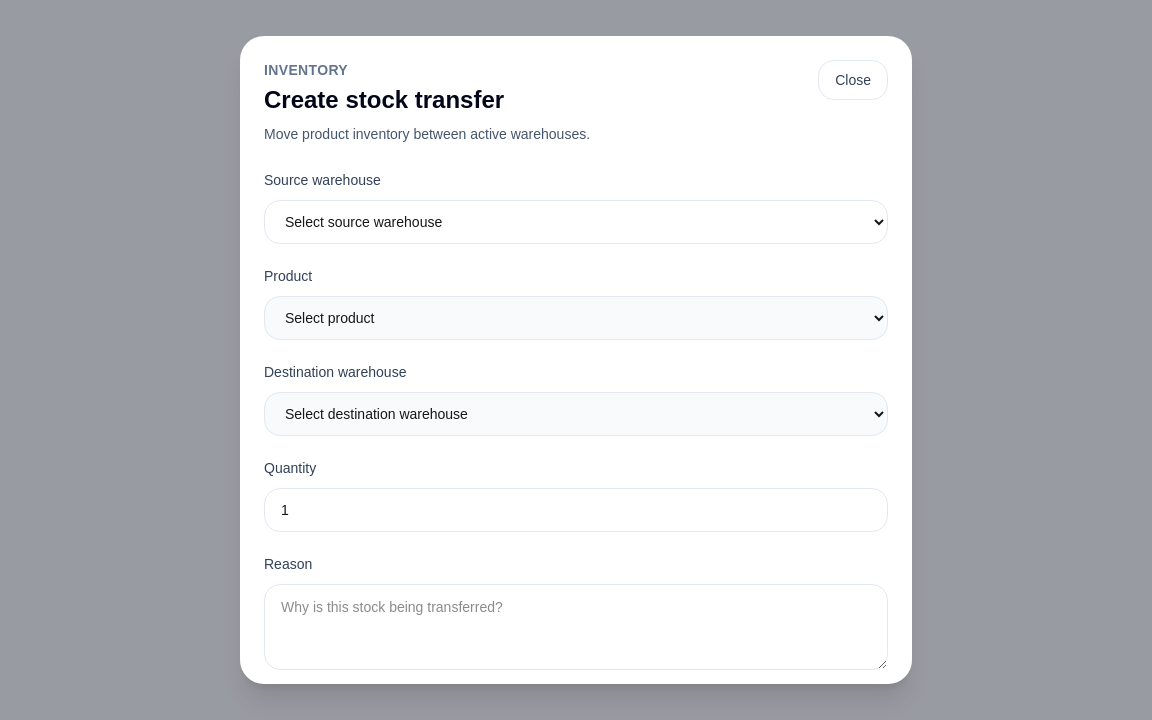
Test case: StockTransferModal › rejects a quantity above available stock
Select "Main Warehouse (MAIN)" in the dropdown labelled "Source warehouse" at (576, 222), box [264, 200, 888, 244]
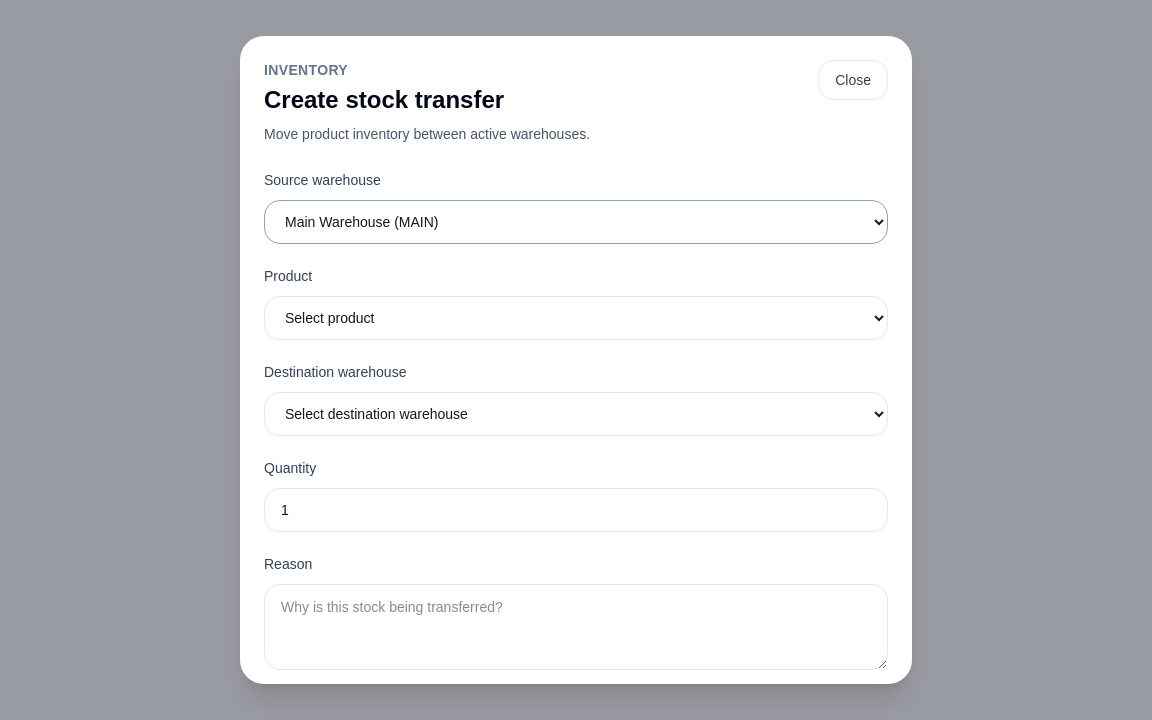
Select "Mechanical Keyboard — 16 available" in the dropdown labelled "Product" at (576, 318), box [264, 296, 888, 340]
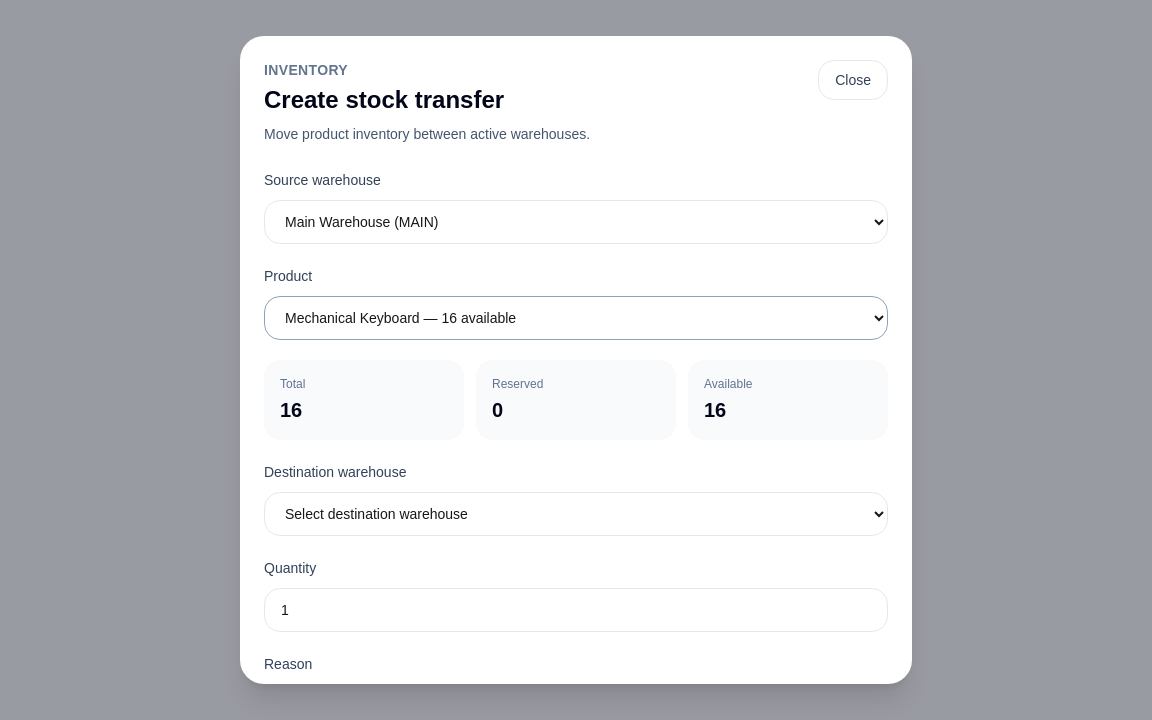
Select "Branch Warehouse (BRANCH)" in the dropdown labelled "Destination warehouse" at (576, 514), box [264, 492, 888, 536]
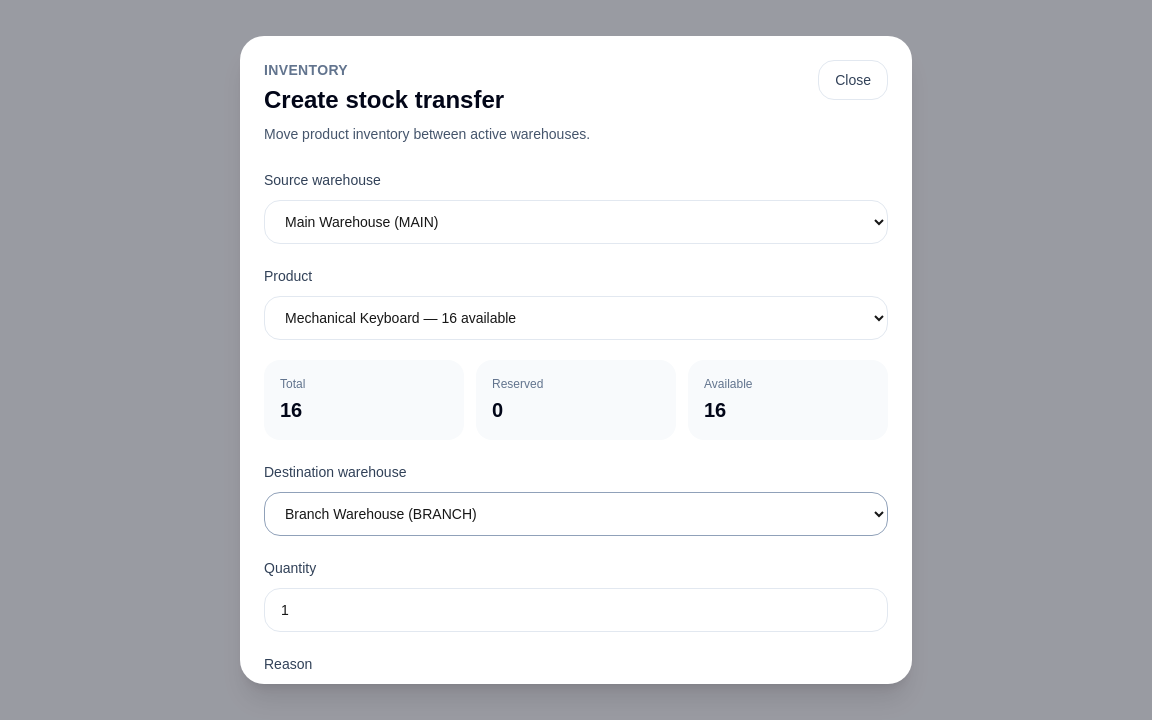
Replace the text in the number field labelled "Quantity" with "20" at (576, 610), box [264, 588, 888, 632]
(page scrolled)
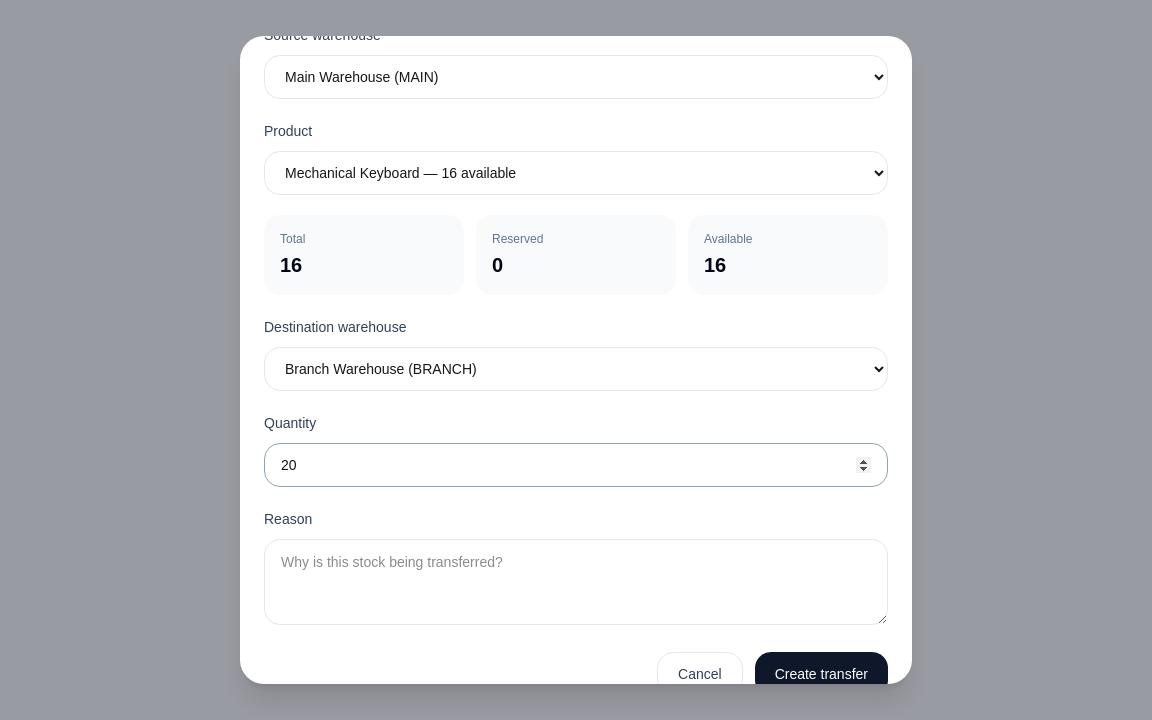
Now the form named "create transfer" is shown, box [264, 36, 888, 684]
Submit the form named "create transfer", box [264, 23, 888, 696]
(page scrolled)
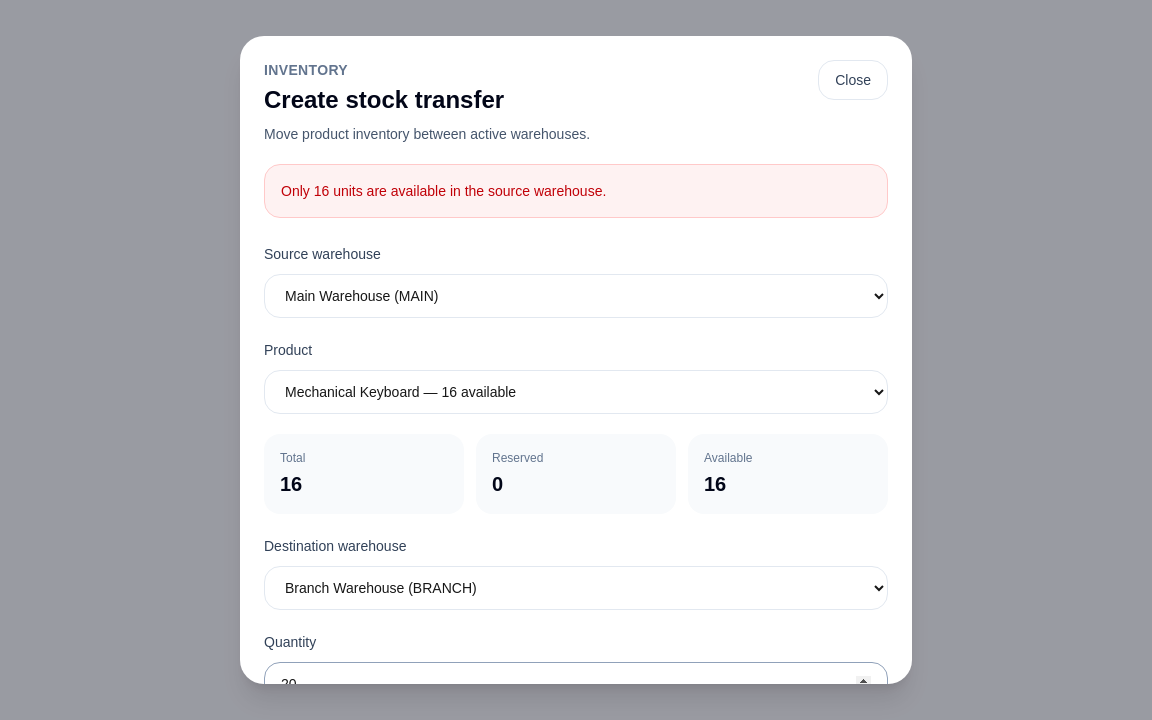
Now the text "Only 16 units are available in the source warehouse." is shown, box [264, 164, 888, 218]
